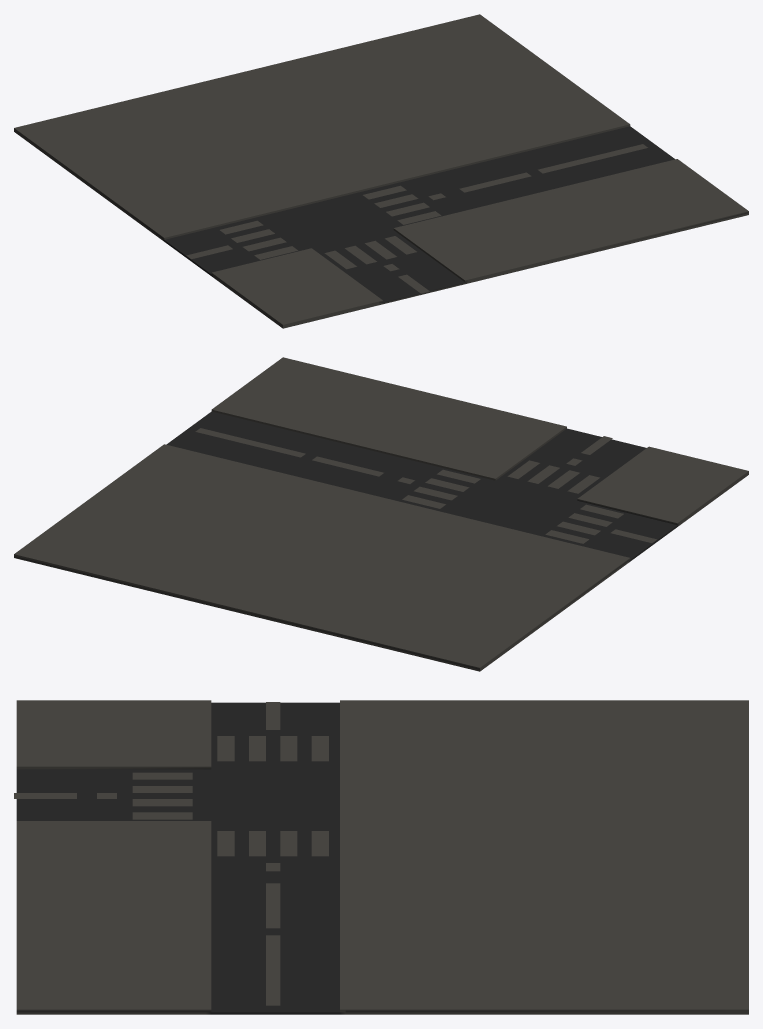
Rendered from Street_Mesh_003.fbx.
3 views of the same model, one above another, from view 1: azimuth 30°, elevation 25°; view 2: azimuth 150°, elevation 25°; view 3: azimuth 270°, elevation 25° (orthographic). The views are drawn at different scales.
Parts seen in each view (by area): view 1: Street_003; view 2: Street_003; view 3: Street_003.
Part boxes in pixels (bbox=[...]): Street_003: bbox=[14, 14, 748, 328]; Street_003: bbox=[14, 357, 748, 671]; Street_003: bbox=[14, 700, 748, 1014].
Bounding box in the file's own units: 25.6 × 0.2 × 25.7.
